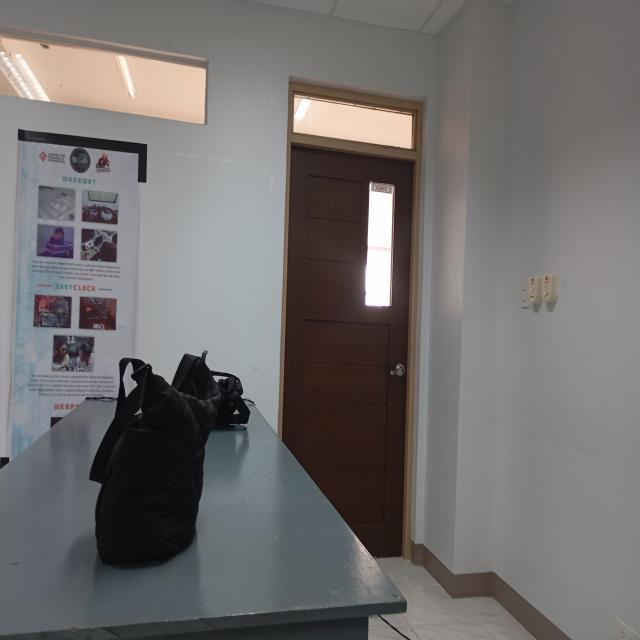door: (276, 64, 434, 588)
